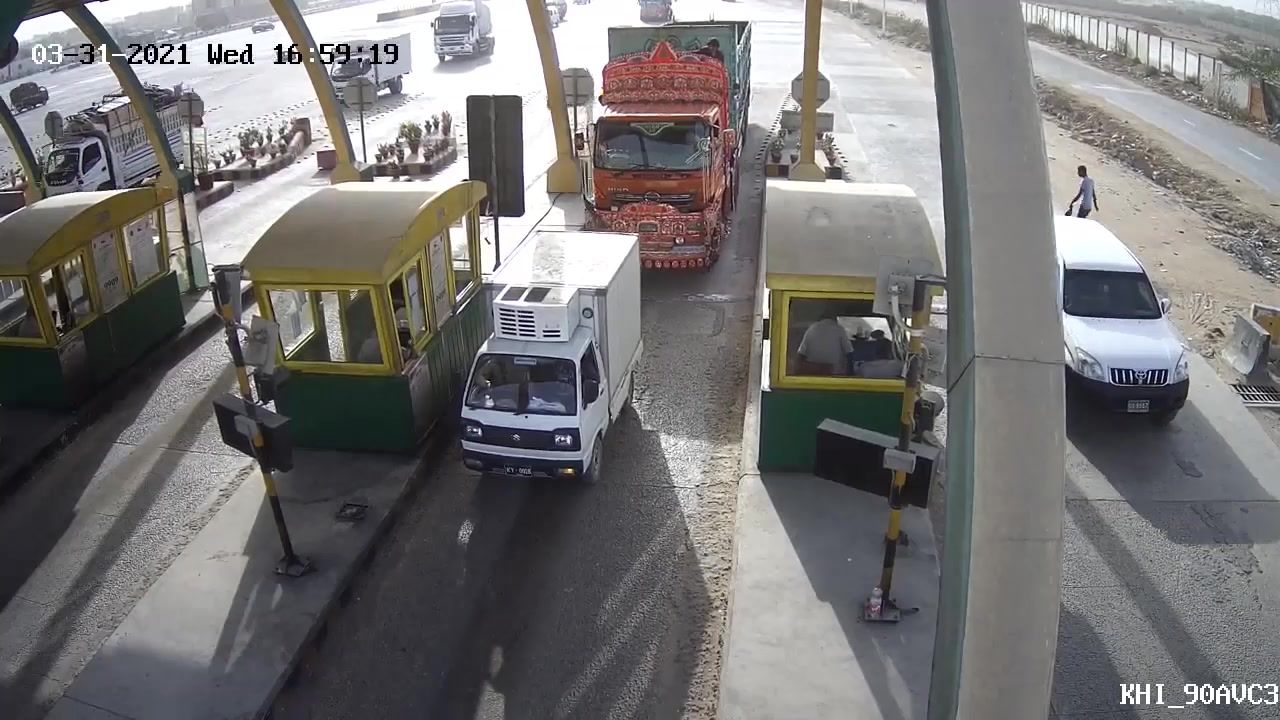F1: (448, 230, 655, 494)
F6: (579, 12, 757, 280)
